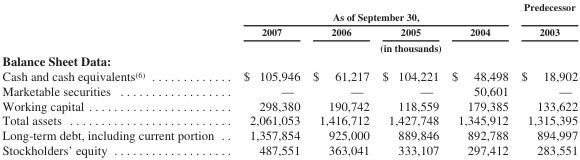table: (1, 0, 577, 156)
table column: (1, 0, 227, 156), (227, 0, 305, 156), (305, 0, 375, 156), (444, 0, 514, 156), (375, 0, 444, 156), (514, 0, 577, 156)
table column header: (1, 0, 577, 53)
table projected row header: (1, 53, 577, 68)
table row: (1, 0, 577, 24), (1, 24, 577, 39), (1, 53, 577, 68), (1, 68, 577, 83), (1, 83, 577, 98), (1, 112, 577, 127), (1, 127, 577, 142), (1, 39, 577, 53), (1, 98, 577, 112), (1, 142, 577, 156)
table spanning cell: (227, 0, 514, 24), (227, 39, 577, 53), (514, 0, 577, 39)
